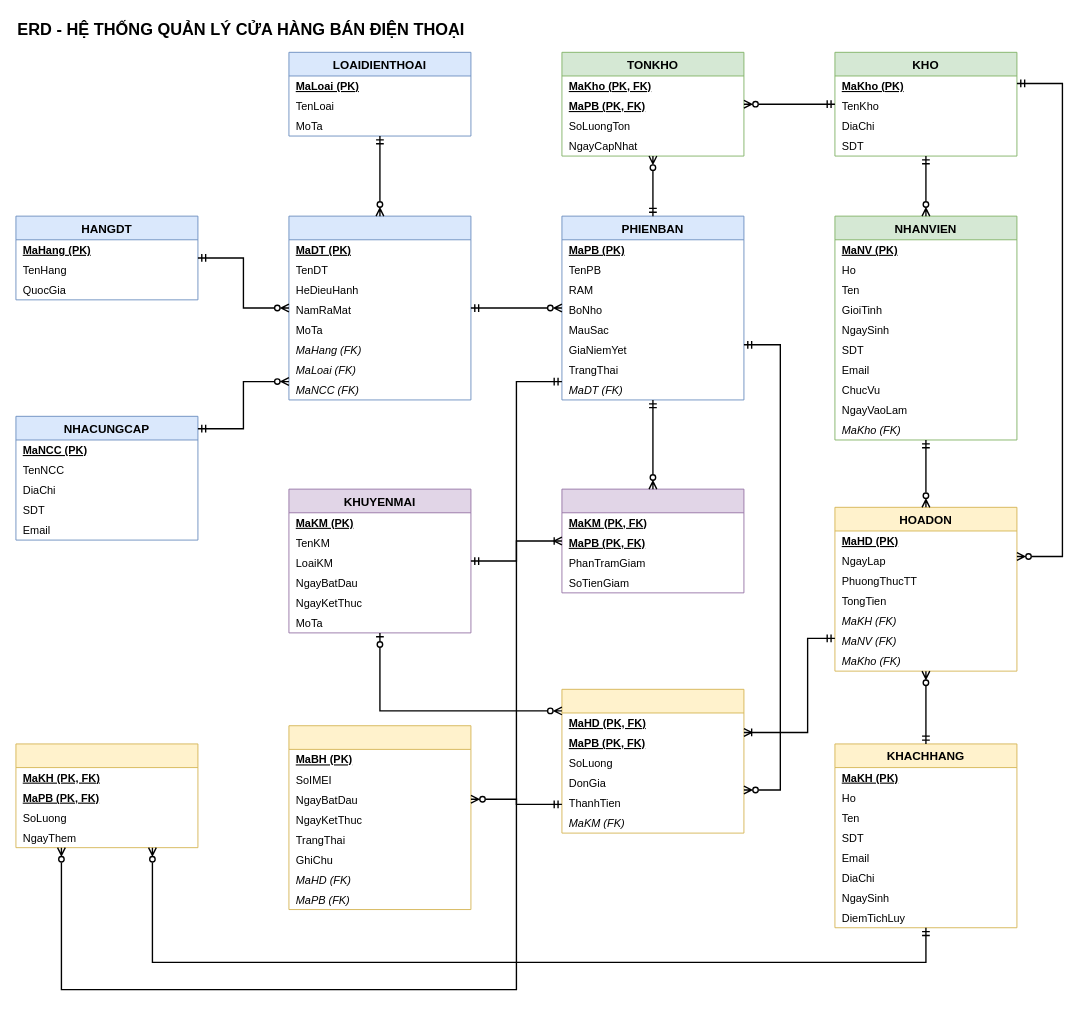
Image size: 1087x1014. Some labels were removed from this diagram. Here are the shapes that lost their labels. From the top down, the box of each, then its label:
(288, 215, 471, 400): DIENTHOAI
(561, 488, 744, 593): CHITIETKHUYENMAI
(561, 688, 744, 833): CHITIETHOADON
(15, 743, 198, 848): GIOHANG
(288, 725, 471, 910): BAOHANH
